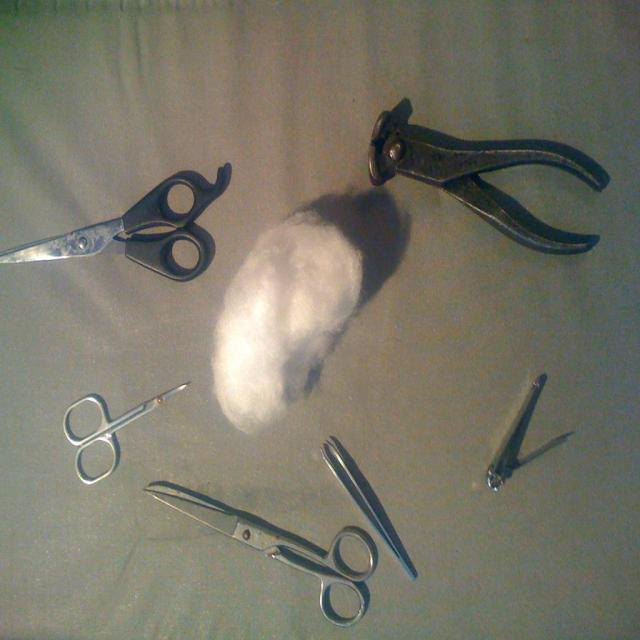scissors: (143, 478, 378, 627), (0, 160, 232, 282), (62, 380, 191, 484)
